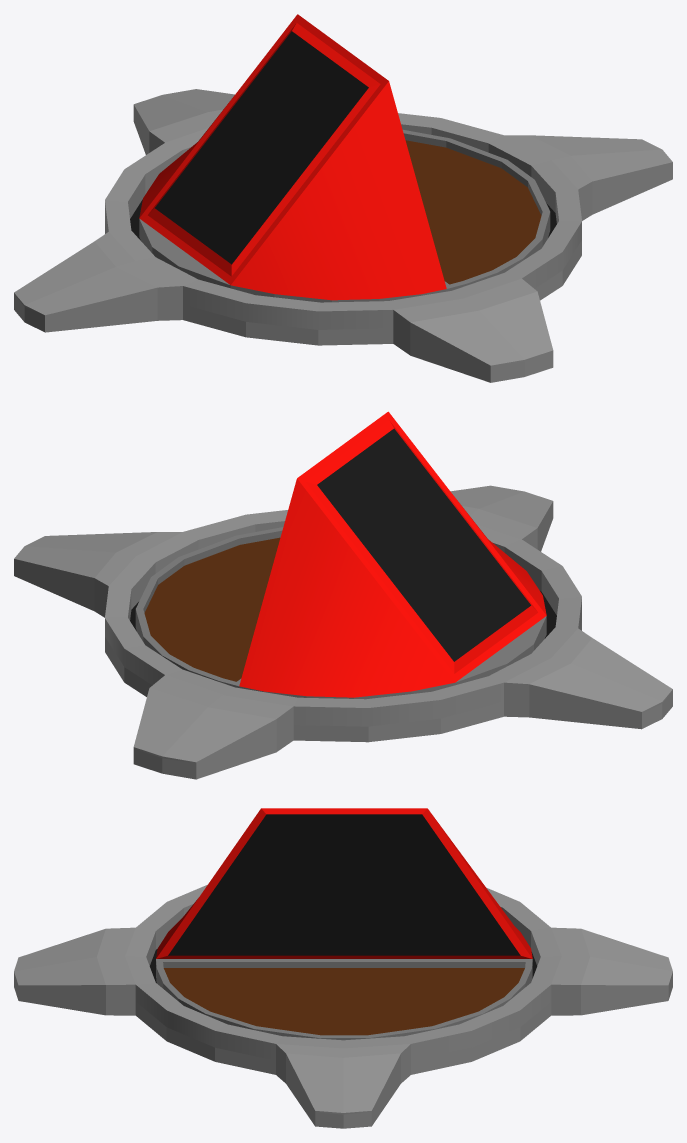
The model's file is Rotatable_Mirror.fbx.
The picture shows the model from 3 angles, top to bottom: view 1: azimuth 30°, elevation 25°; view 2: azimuth 150°, elevation 25°; view 3: azimuth 270°, elevation 25°; orthographic projection. The views are drawn at different scales.
Parts seen in each view (by area): view 1: Box027, Cylinder063; view 2: Box027, Cylinder063; view 3: Box027, Cylinder063.
Part boxes in pixels (box(x1,y1,x2,y2)): Box027: box(139, 14, 550, 302); Cylinder063: box(14, 89, 672, 382); Box027: box(135, 411, 546, 699); Cylinder063: box(14, 485, 672, 779); Box027: box(156, 808, 532, 1040); Cylinder063: box(14, 885, 672, 1128).
Bounding box in the file's own units: 97.88 × 28.86 × 96.23.
